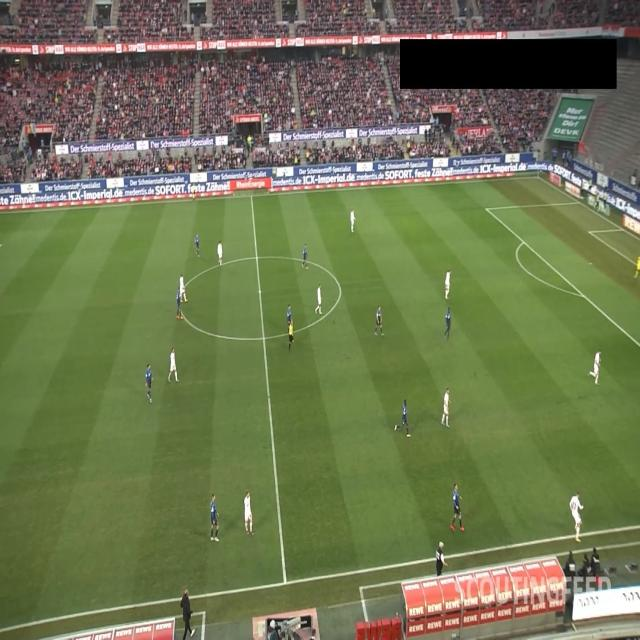ball: (578, 518, 582, 526)
